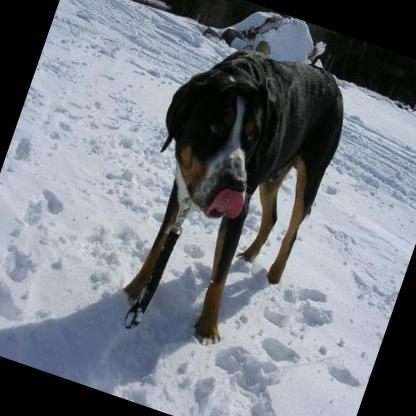Greater_Swiss_Mountain_dog: (98, 25, 361, 366)
